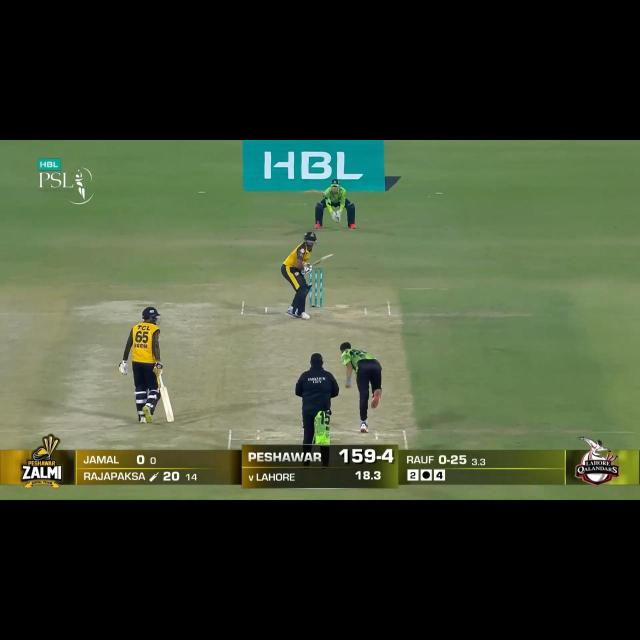bat: (157, 387, 176, 422), (311, 253, 334, 267)
toe: (166, 417, 175, 422), (326, 254, 334, 258)
